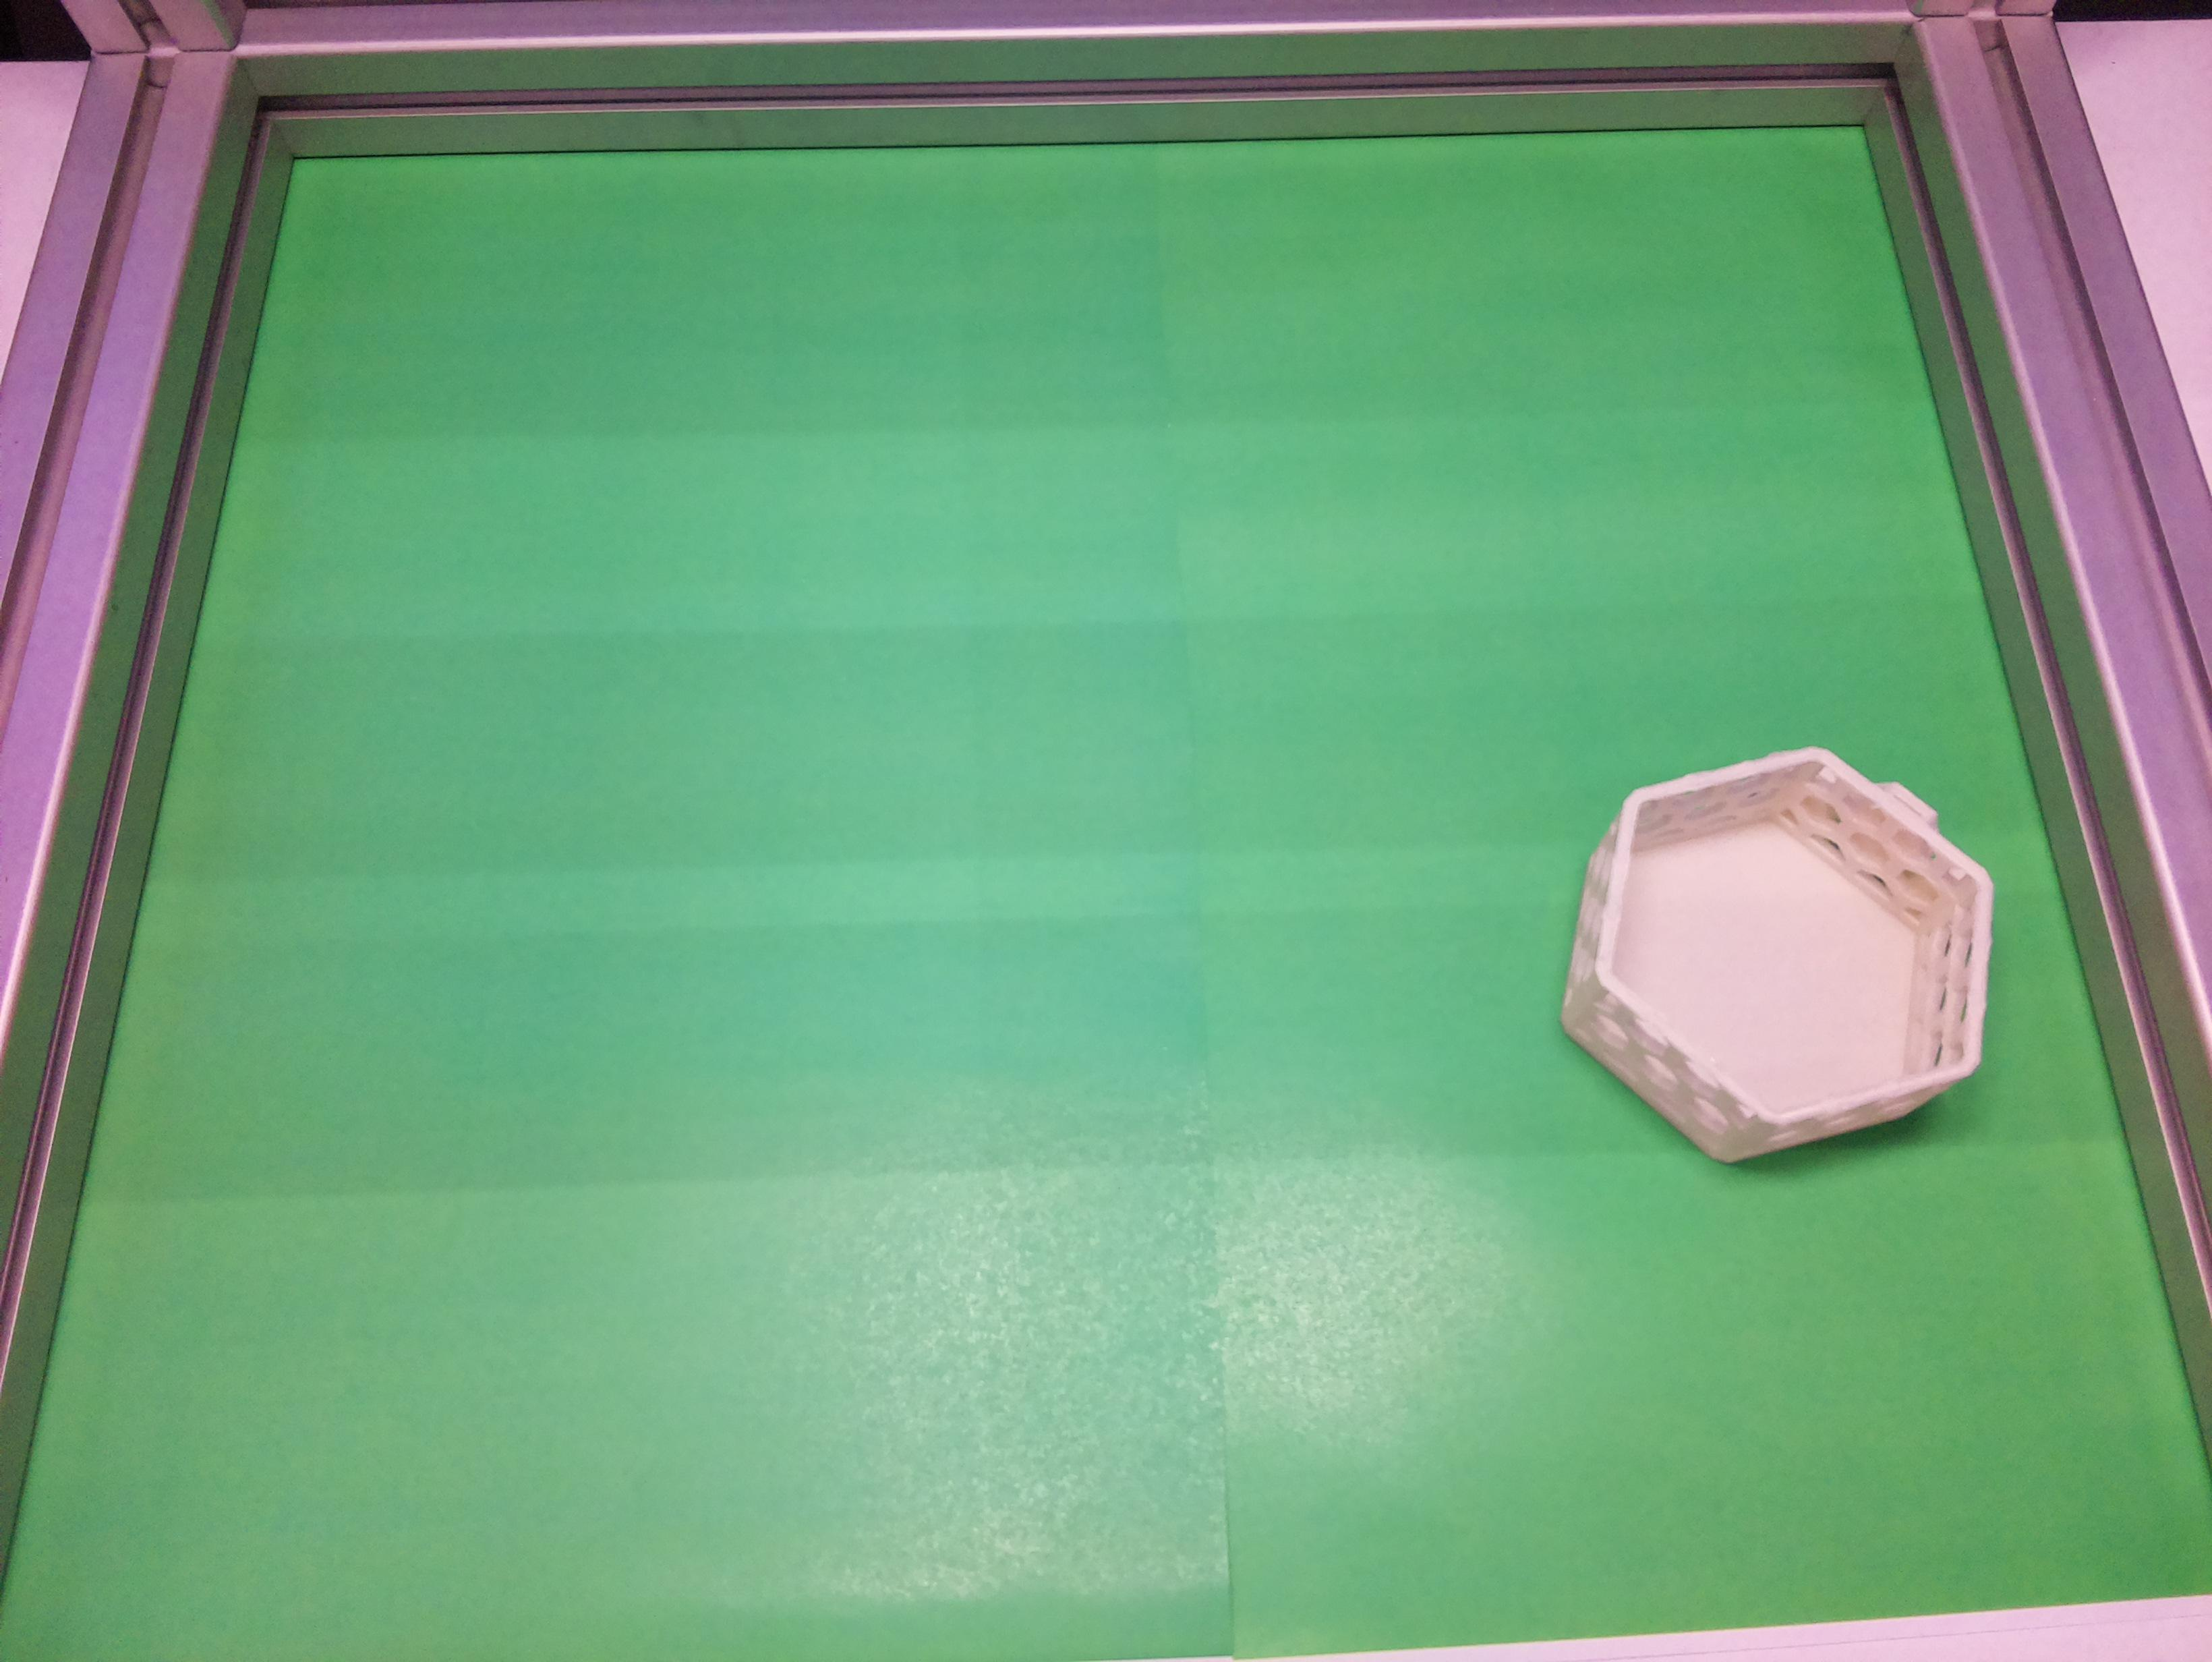bottle_holder: (1510, 707, 2043, 1194)
